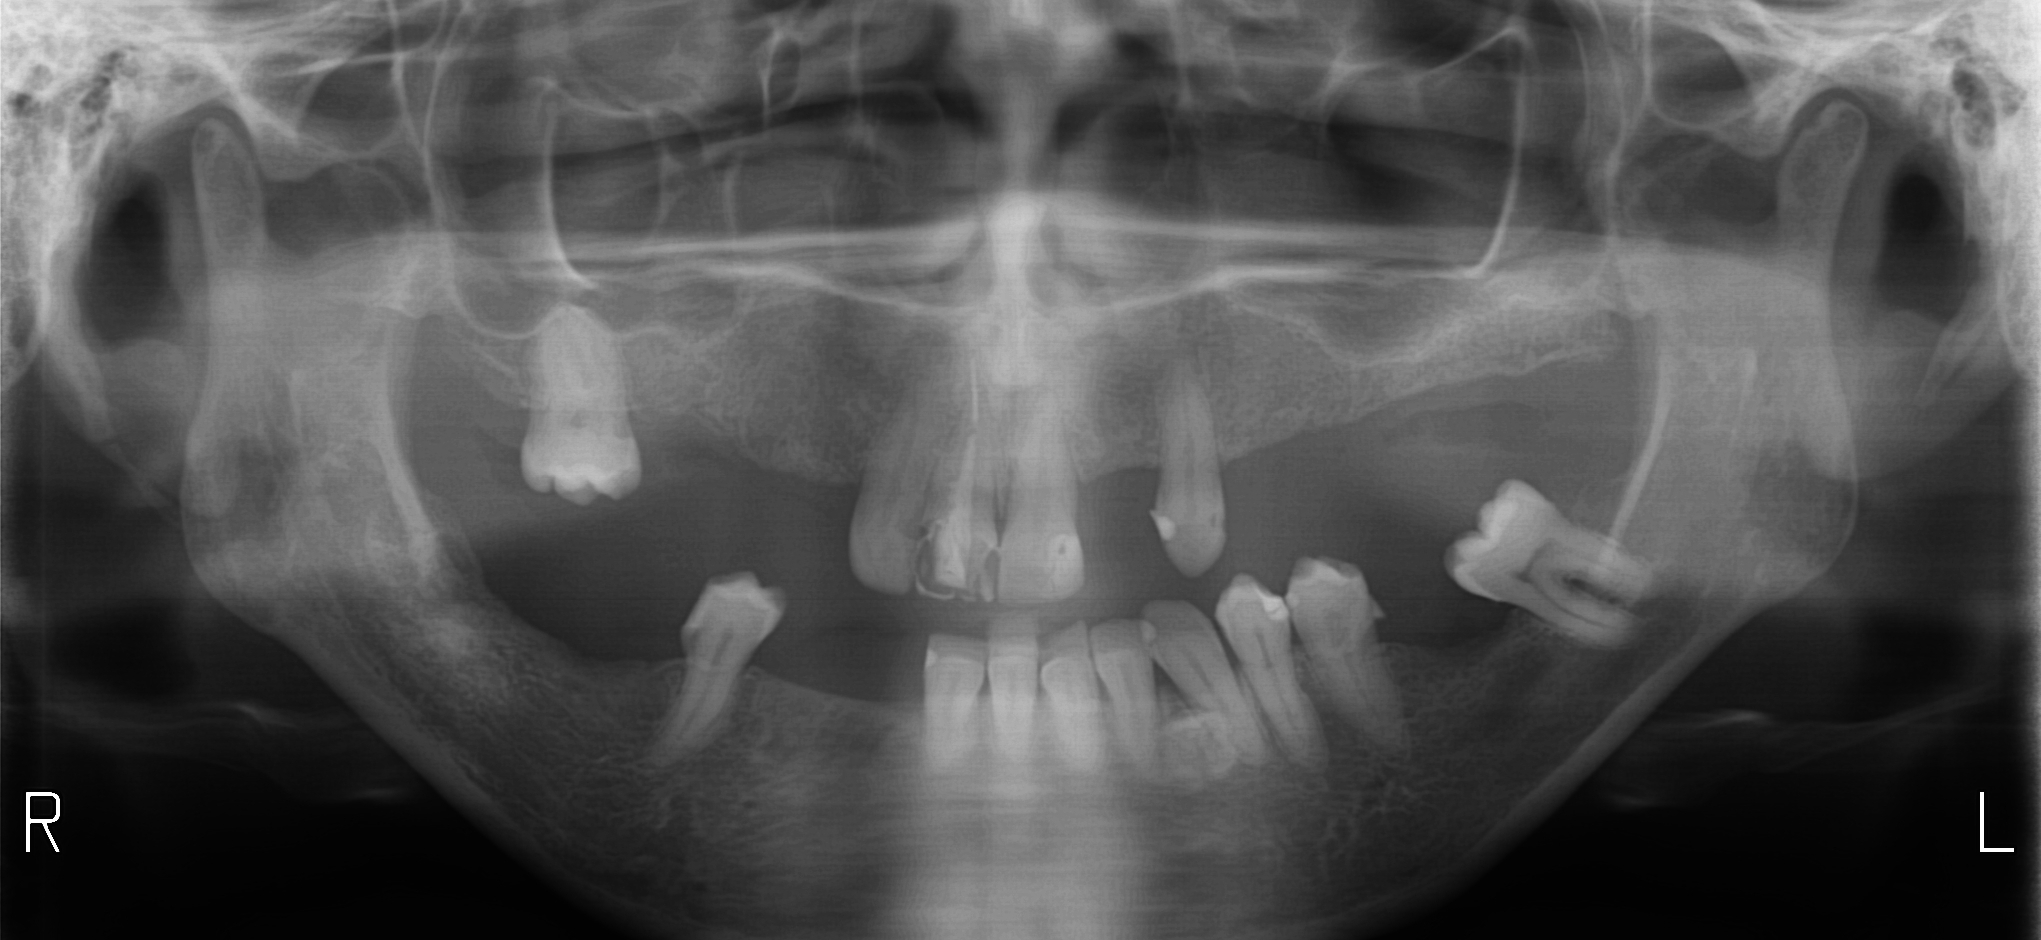cavity: (919, 532, 975, 595), (978, 547, 994, 581), (685, 631, 698, 661), (620, 417, 631, 434), (1213, 516, 1214, 523)
